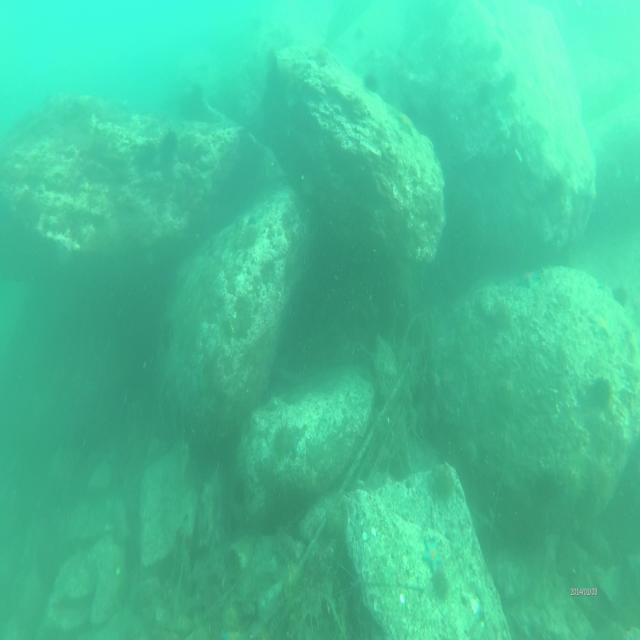echinus: (271, 424, 297, 460), (489, 298, 513, 334), (592, 370, 613, 409), (434, 462, 454, 500), (158, 128, 176, 161), (431, 568, 449, 600), (480, 78, 495, 102), (365, 72, 380, 95), (488, 40, 503, 62), (502, 68, 516, 89)
holothurian: (235, 209, 248, 250)
starfish: (588, 308, 612, 339), (422, 533, 441, 572), (395, 108, 417, 138), (518, 267, 541, 290), (247, 204, 263, 222)
